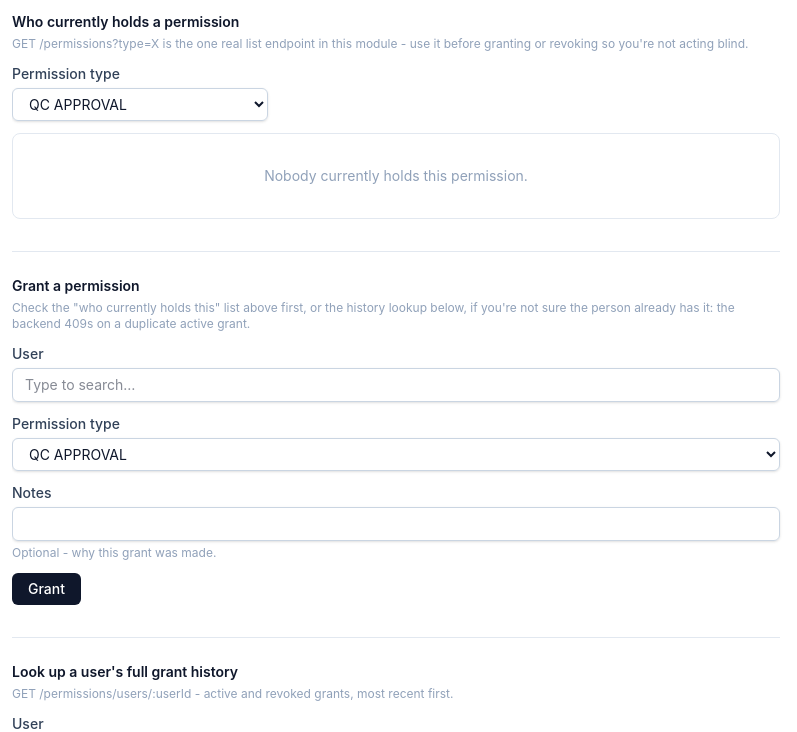
Test: PermissionsPage - grant form › blocks submission with no user picked (required validation still active)
This screenshot has width=797, height=732.
What coordinates should you click on to do the following:
click the button "Grant"
I would click on:
 (46, 589)
Its box is [12, 573, 81, 605].
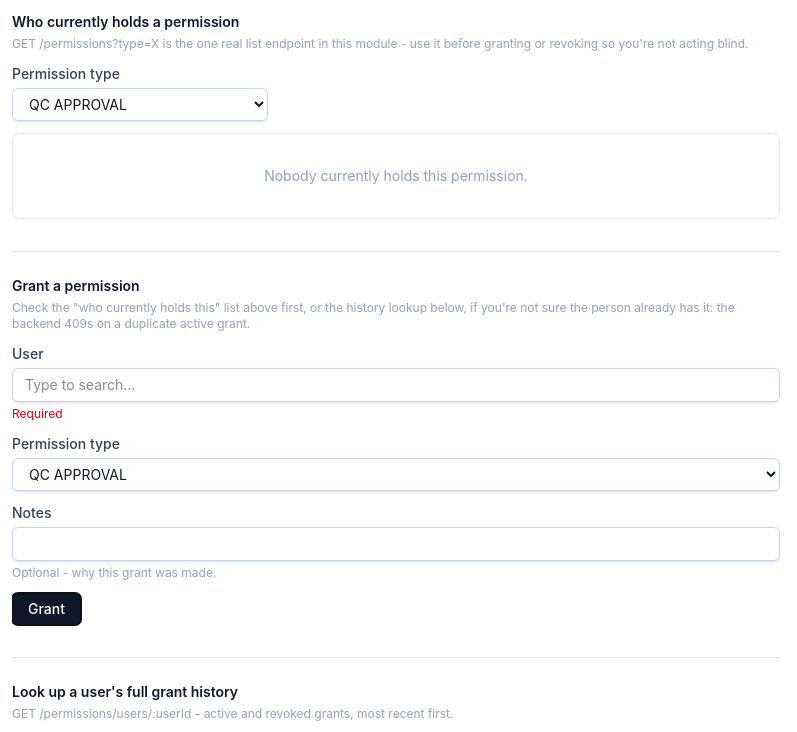
Now the text "Required" is shown, box [12, 406, 63, 421]
